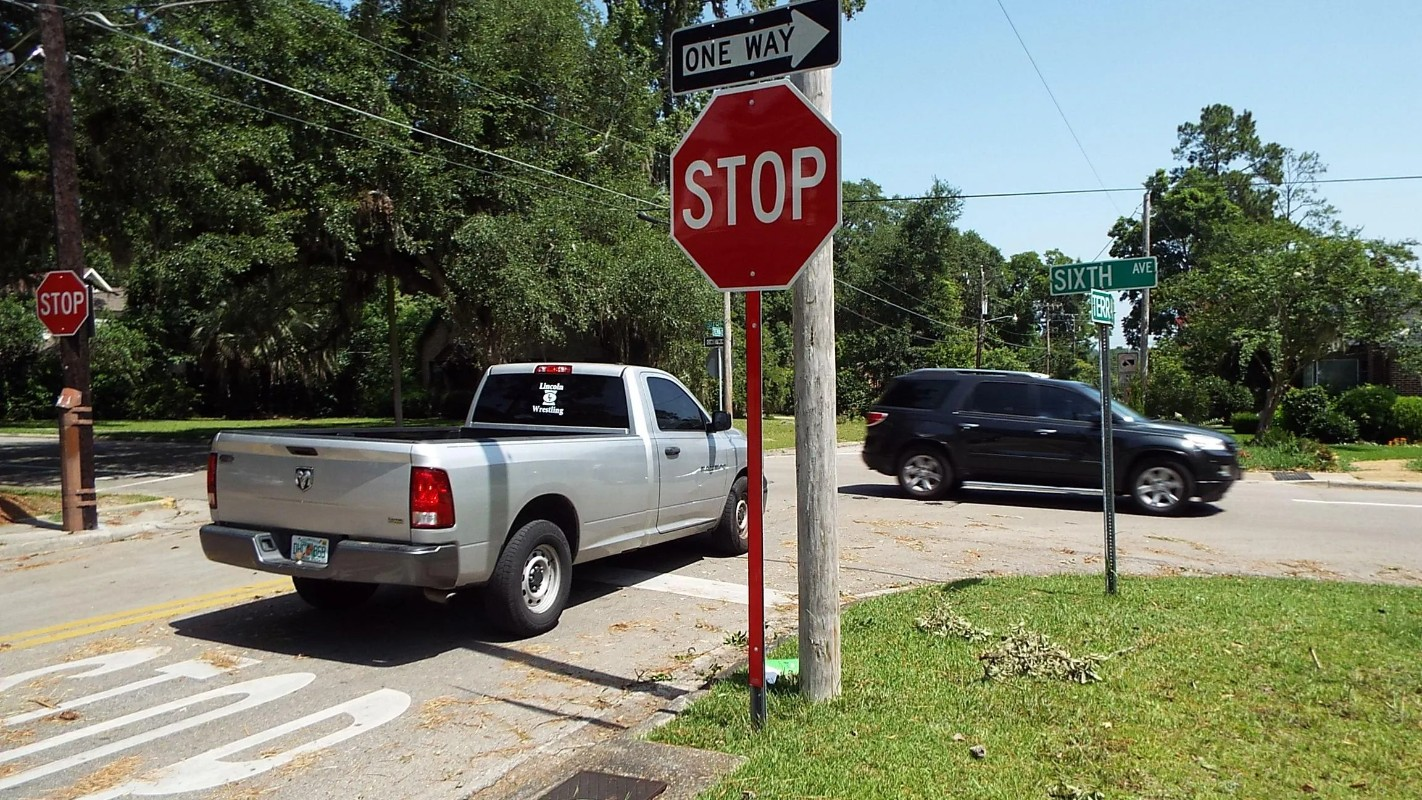stop: (669, 69, 848, 295)
